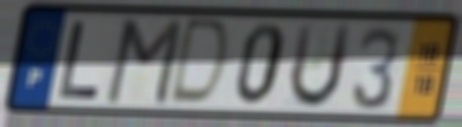0: (231, 20, 287, 109)
3: (352, 22, 400, 114)
D: (165, 15, 234, 110)
L: (55, 18, 105, 101)
M: (101, 16, 187, 109)
U: (286, 20, 355, 112)
